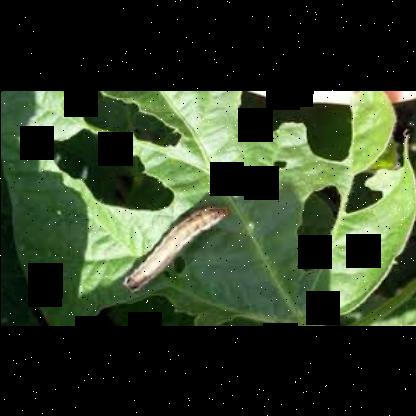agujero: (39, 128, 175, 218), (238, 92, 356, 164), (339, 119, 407, 220), (288, 181, 342, 275), (60, 102, 178, 138), (171, 251, 190, 273), (268, 157, 288, 173)
oruga: (110, 230, 236, 258)
